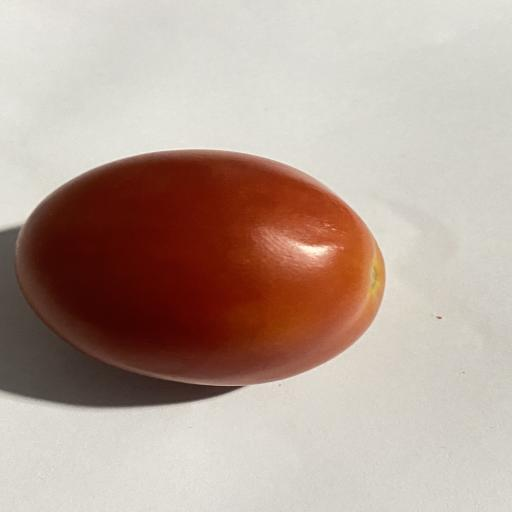ripe: (16, 150, 385, 386)
